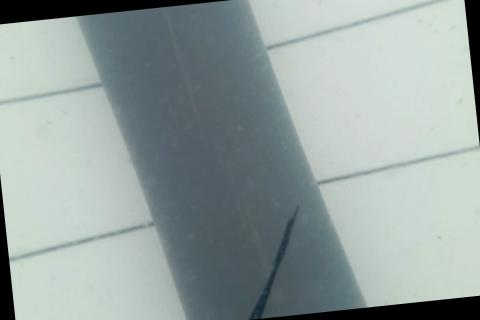keretakan: (232, 201, 311, 320)
